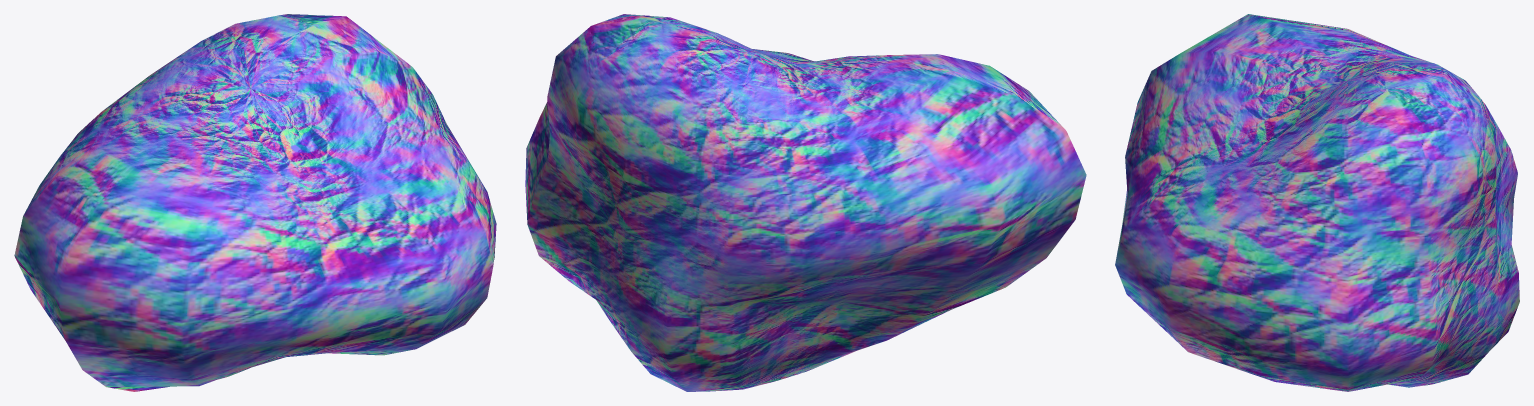
Rendered from asteroid_sphere272v1.obj.
The picture shows the model from 3 angles, left to right: view 1: azimuth 30°, elevation 25°; view 2: azimuth 150°, elevation 25°; view 3: azimuth 270°, elevation 25°; orthographic projection. The views are drawn at different scales.
Visible parts, largest first — view 1: Sphere.001_Sphere.002; view 2: Sphere.001_Sphere.002; view 3: Sphere.001_Sphere.002.
Boxes of the visible parts, <box> form: Sphere.001_Sphere.002: <box>14,14,496,391</box>; Sphere.001_Sphere.002: <box>525,14,1086,391</box>; Sphere.001_Sphere.002: <box>1115,14,1519,391</box>.
Bounding box in the file's own units: 3.85 × 2.51 × 2.85.
1 material, 1 textured.
